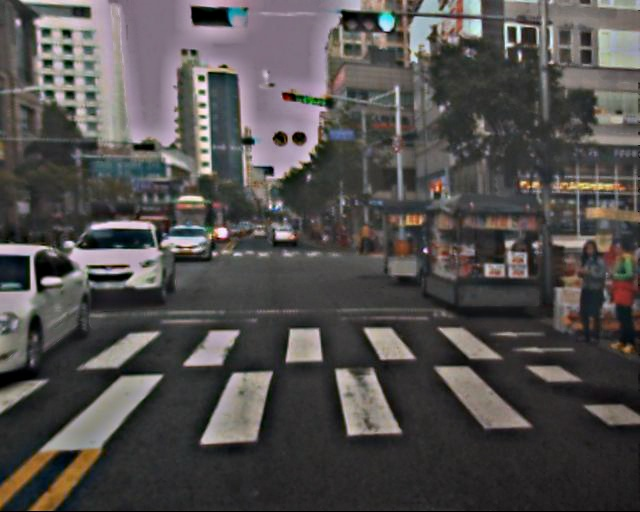person: (594, 241, 640, 353), (563, 240, 606, 344)
